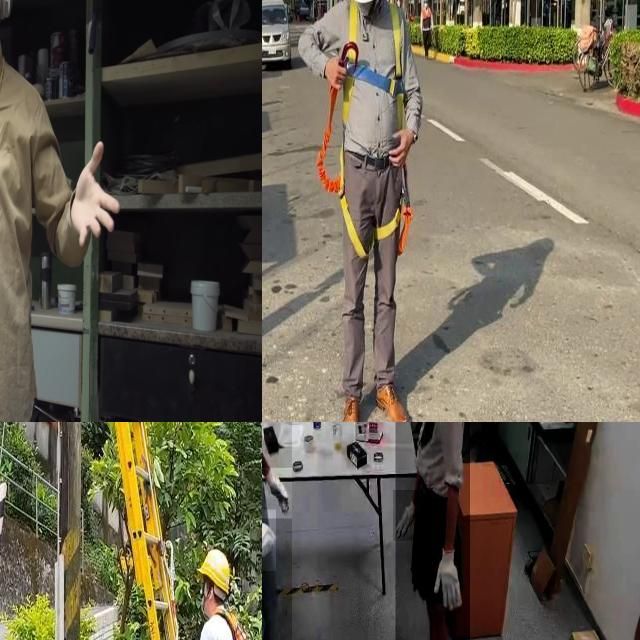Harness: (317, 88, 413, 280), (340, 0, 405, 128)
hand_glove: (432, 542, 460, 612), (262, 467, 292, 518), (393, 490, 418, 542), (262, 509, 276, 571)
person: (0, 0, 98, 422), (395, 422, 470, 640)
